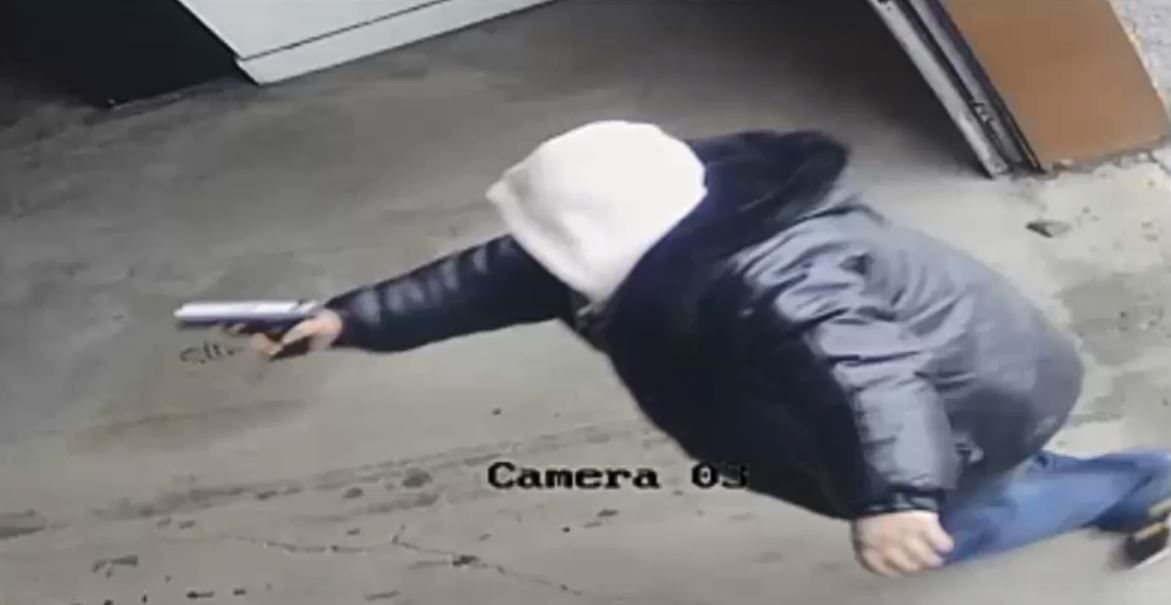gun: (156, 286, 352, 379)
